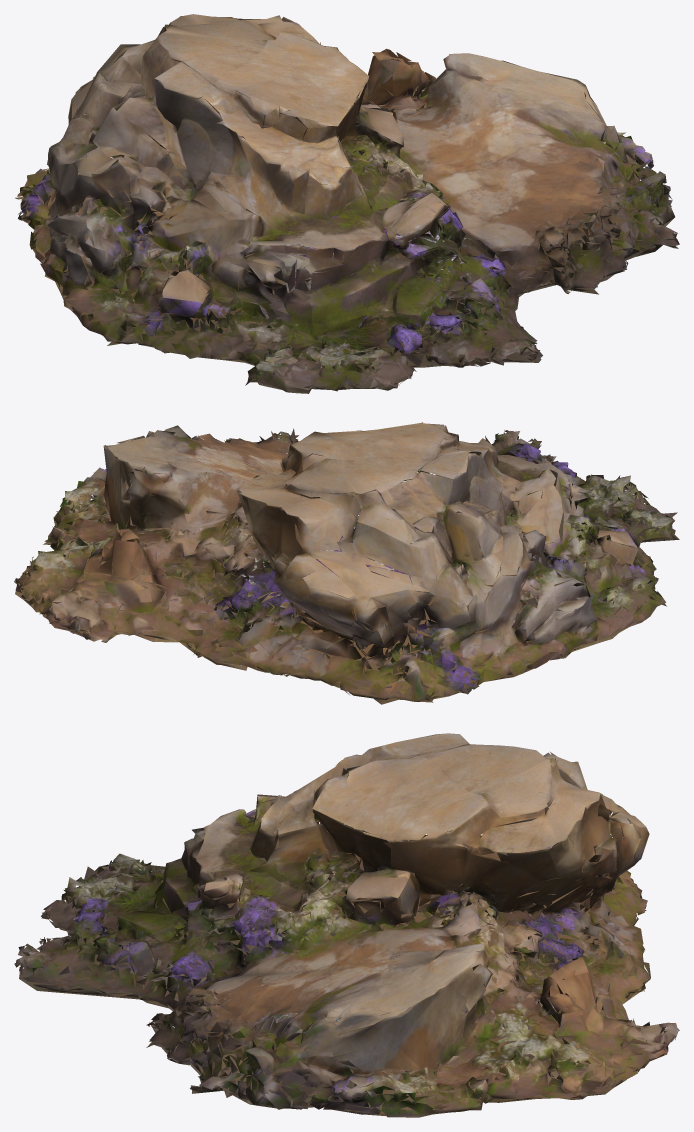
File: Meadow_Rocks_town.glb
3 renders of one model, top to bottom at view 1: azimuth 30°, elevation 25°; view 2: azimuth 150°, elevation 25°; view 3: azimuth 270°, elevation 25°, orthographic. The views are drawn at different scales.
Parts seen in each view (by area): view 1: Meadow_Rocks; view 2: Meadow_Rocks; view 3: Meadow_Rocks.
Part boxes in pixels (x1,y1,x2,y2): Meadow_Rocks: [15, 14, 679, 393]; Meadow_Rocks: [14, 422, 679, 704]; Meadow_Rocks: [14, 733, 679, 1117].
Bounding box in the file's own units: 1.99 × 0.5832 × 1.97.
1 material, 1 textured.
